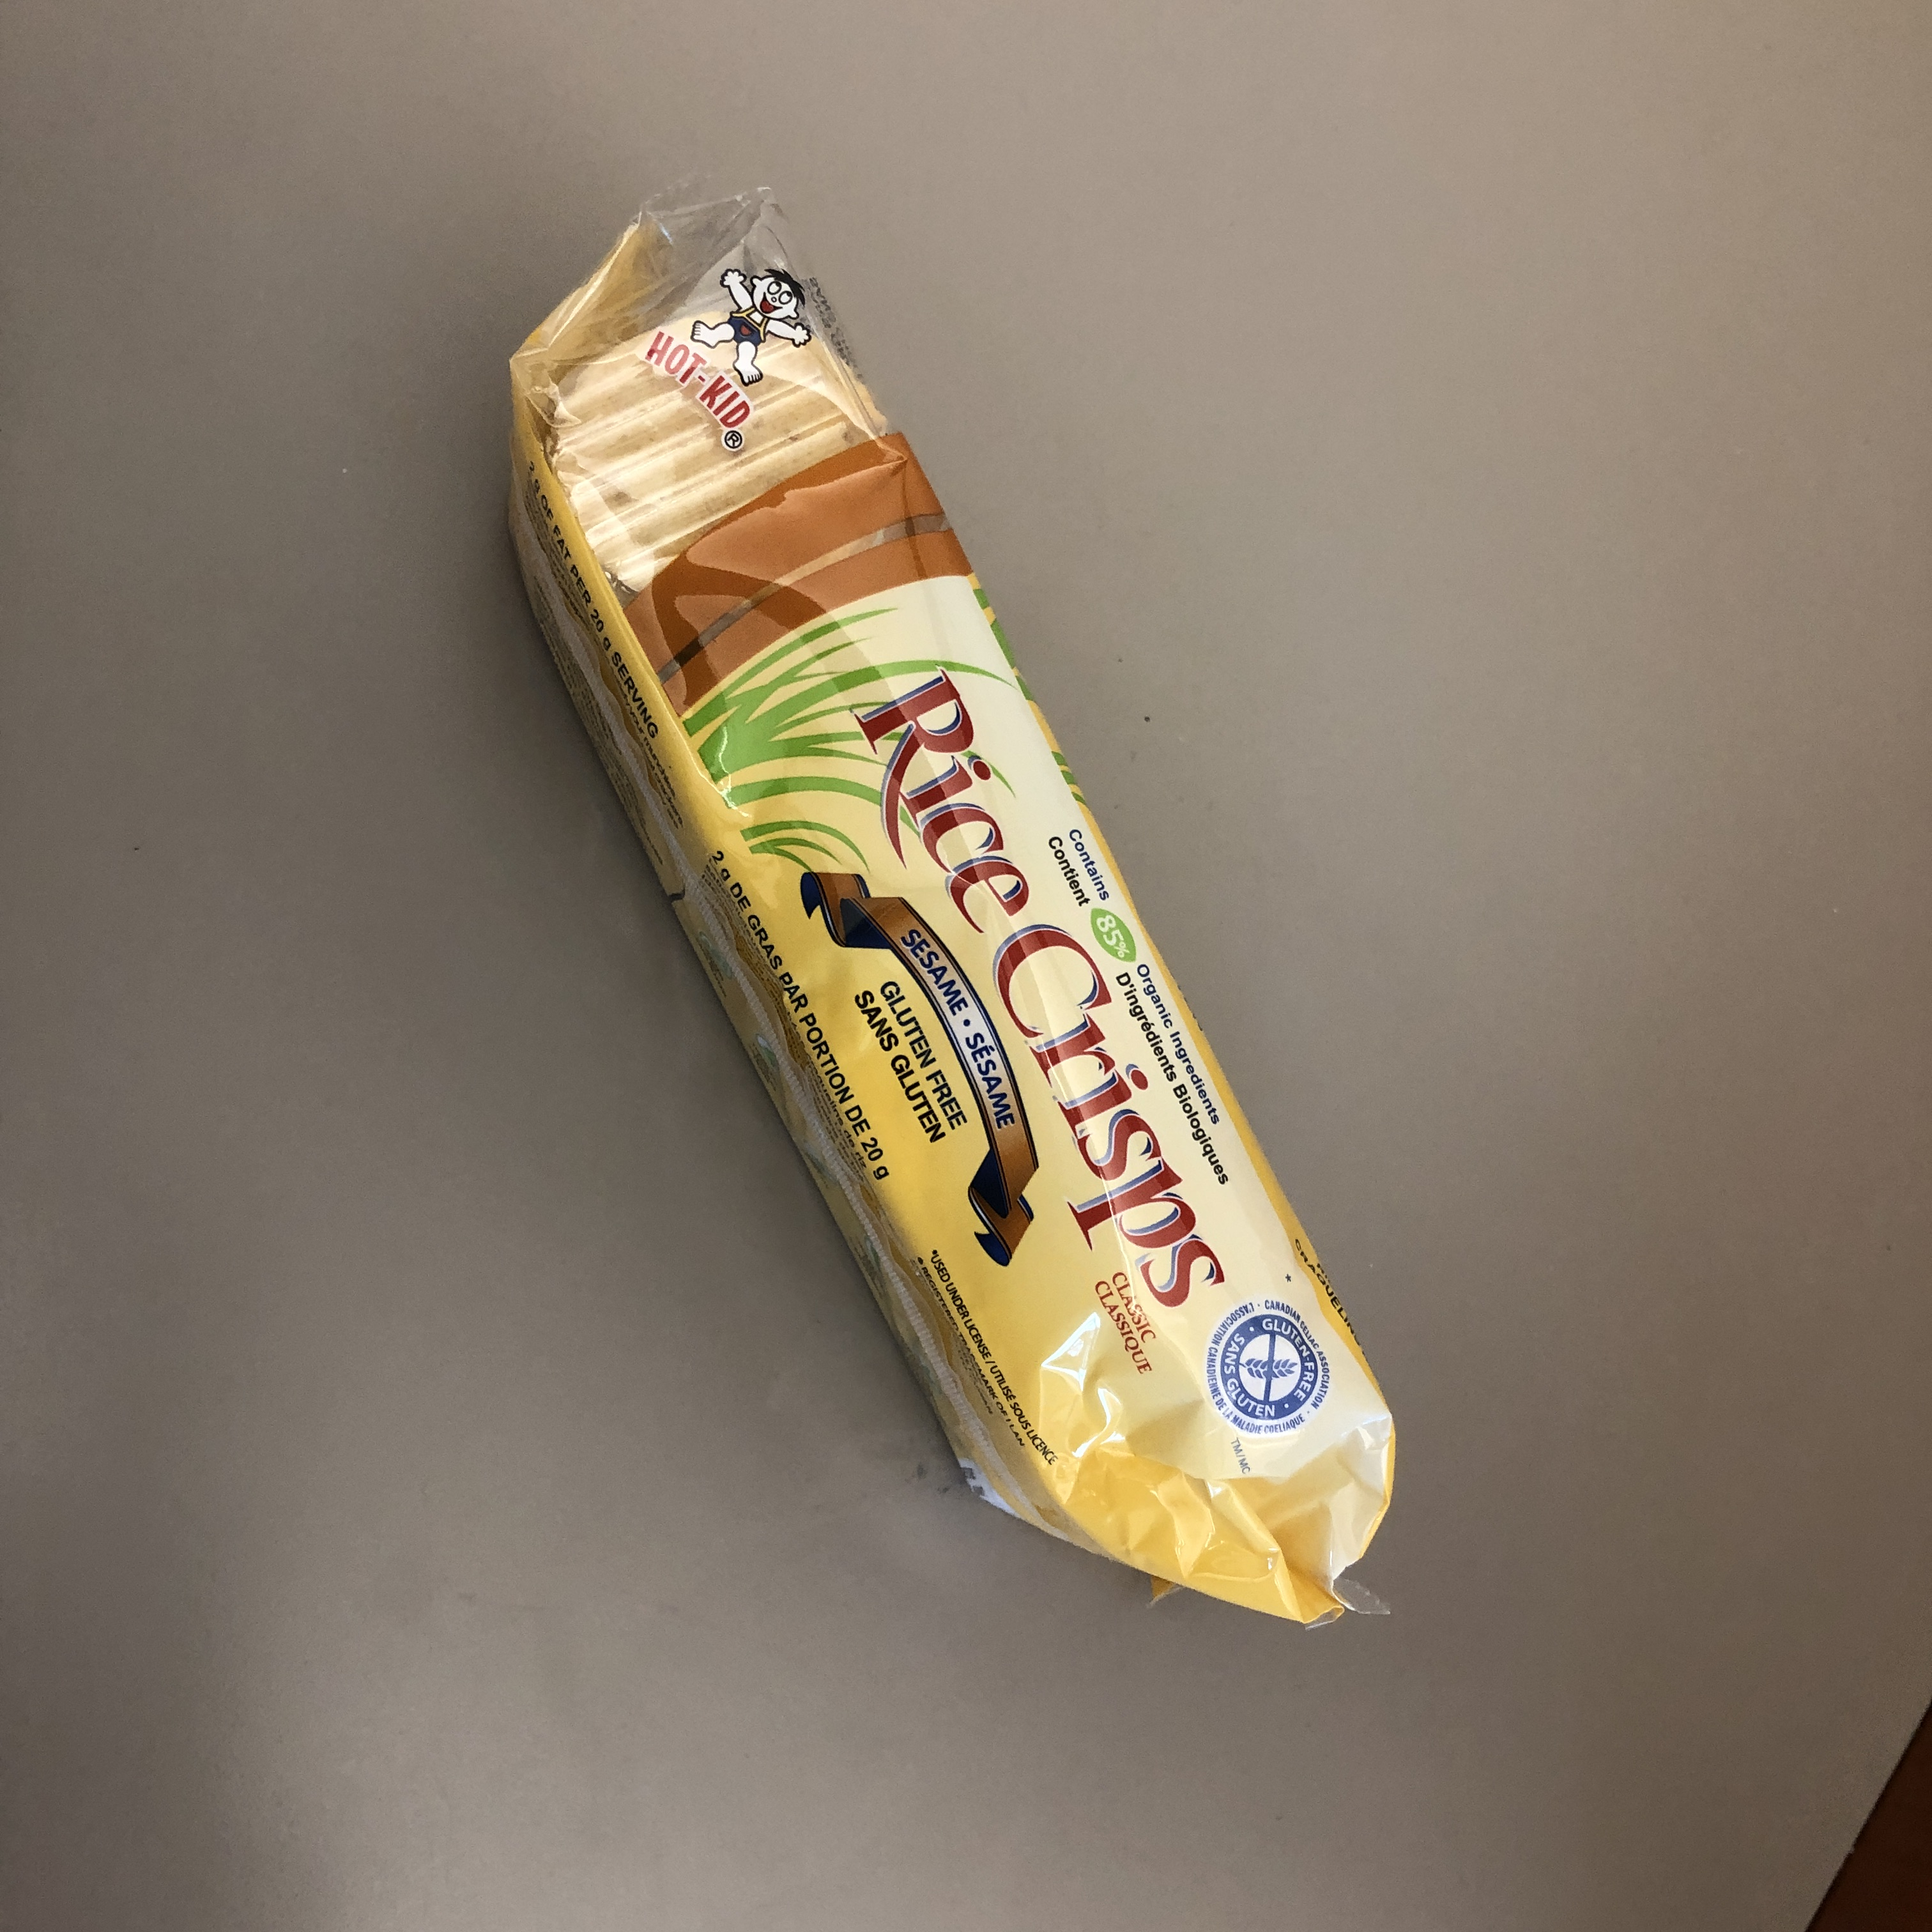hot_kid_rice_crisps_sesame: (221, 596, 1633, 1396)
